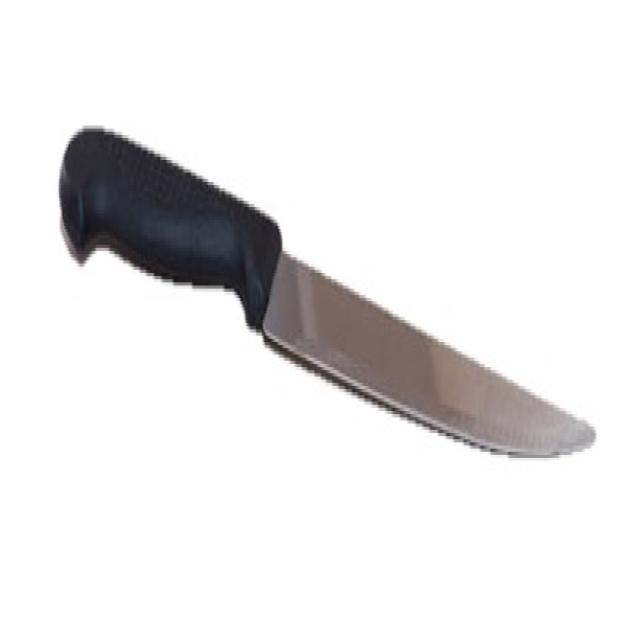knife: (55, 109, 599, 481)
